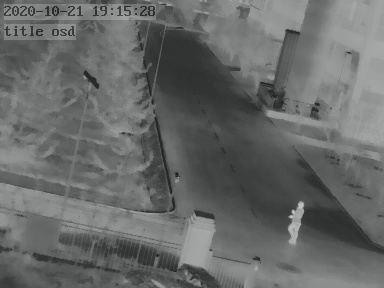person: (288, 199, 304, 243)
